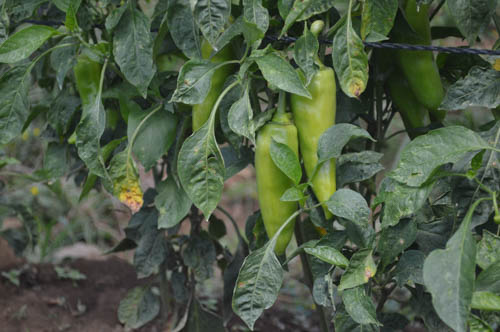ChiliPepper: (291, 67, 337, 217), (258, 124, 297, 250), (186, 41, 225, 131), (400, 25, 441, 109), (388, 72, 425, 130)
